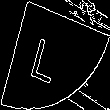L_N: (36, 26, 74, 84)
